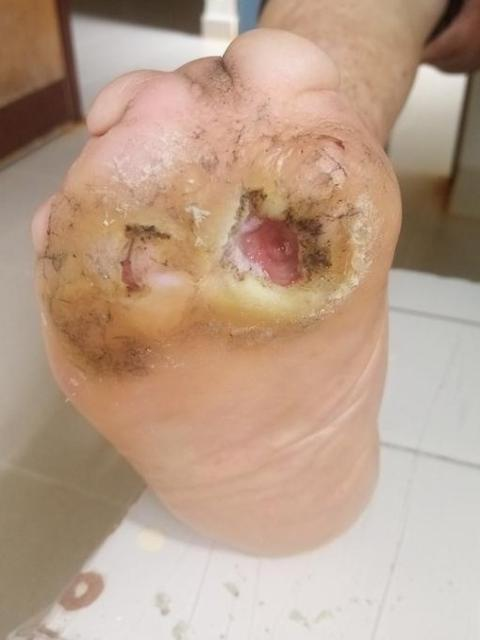wound: (221, 183, 313, 291), (115, 237, 147, 296)
